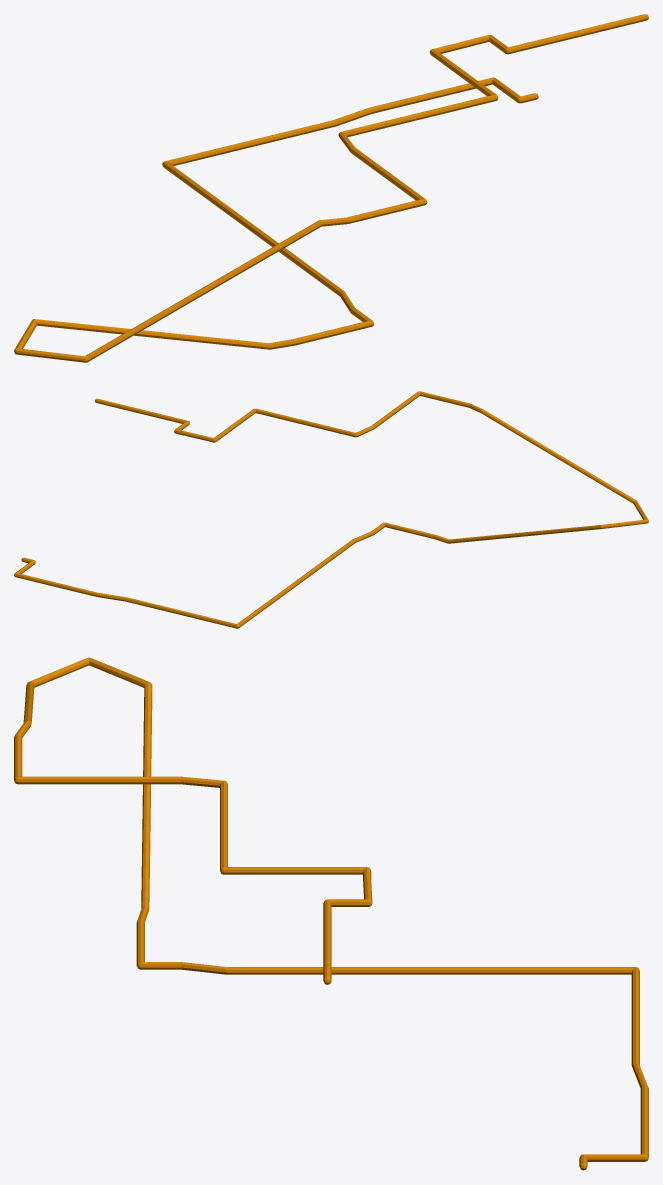
3 views of the same model, one above another, from view 1: azimuth 30°, elevation 25°; view 2: azimuth 150°, elevation 25°; view 3: azimuth 270°, elevation 25° (orthographic). The views are drawn at different scales.
Bounding box in the file's own units: 2408 × 520 × 1553.
